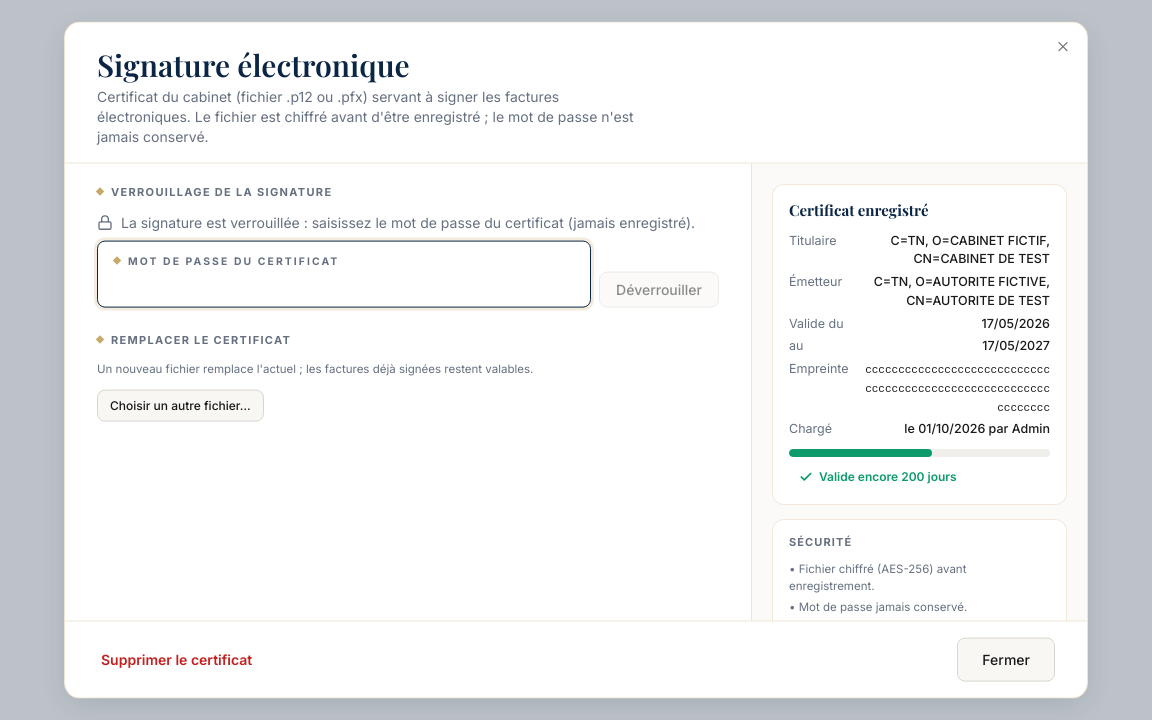
Test: SignatureElectroniqueDialog › remplacer : le formulaire de chargement apparaît, « Annuler » le referme
What coordinates should you click on to do the following:
click the button "Choisir un autre fichier…"
I would click on:
 (180, 406)
Its box is x1=97 y1=390 x2=264 y2=422.
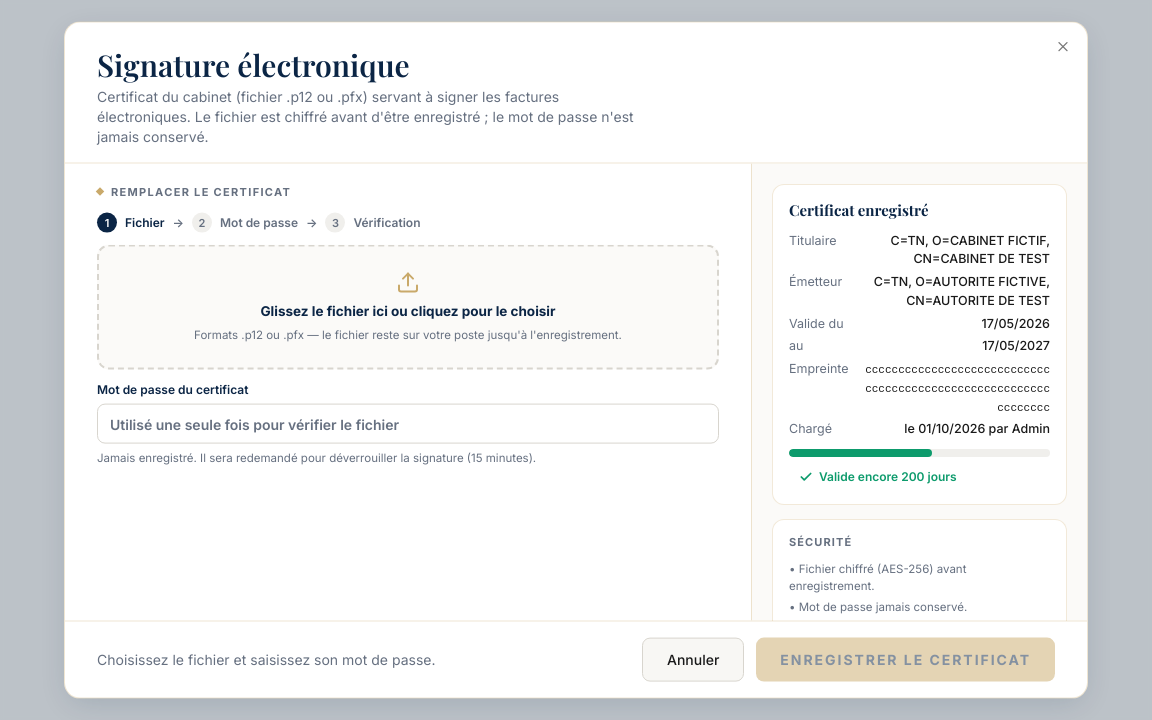
Check: the heading "Remplacer le certificat" is shown, box x1=96 y1=185 x2=291 y2=199
Check: the text "Glissez le fichier ici ou cliquez pour le choisir" is shown, box x1=260 y1=300 x2=556 y2=320
What coordinates should you click on to do the following:
click the button "Annuler"
I would click on:
 (693, 659)
Its box is x1=642 y1=637 x2=744 y2=681.
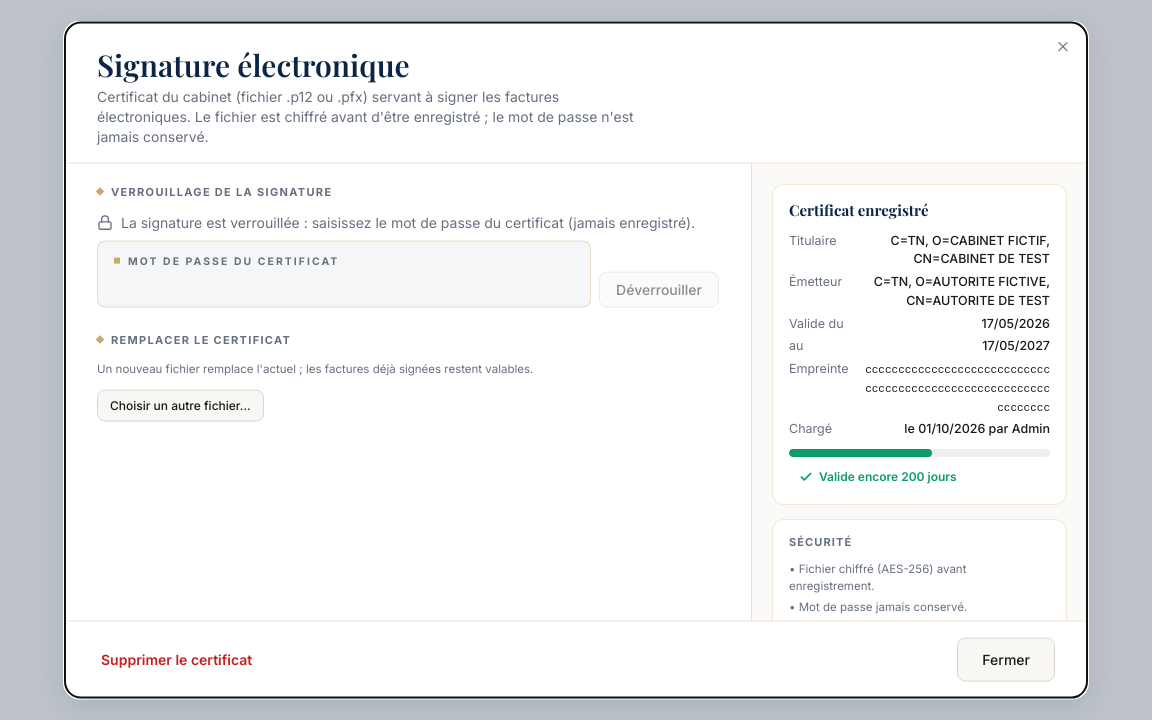
Check: the button "Glissez le fichier ici ou cliquez pour le choisir" is gone
